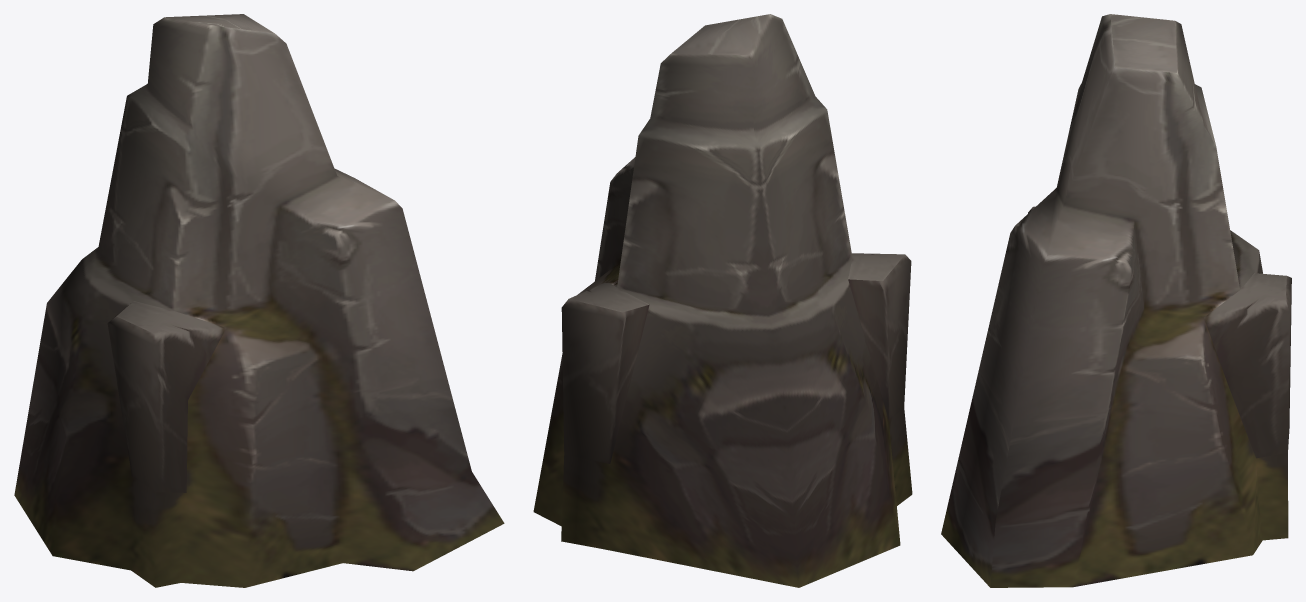
The picture shows the model from 3 angles, left to right: view 1: azimuth 30°, elevation 25°; view 2: azimuth 150°, elevation 25°; view 3: azimuth 270°, elevation 25°; orthographic projection. The views are drawn at different scales.
Visible parts, largest first — view 1: MB0002_28_02_01; view 2: MB0002_28_02_01; view 3: MB0002_28_02_01.
Part boxes in pixels (bbox=[...]): MB0002_28_02_01: bbox=[14, 14, 504, 587]; MB0002_28_02_01: bbox=[533, 14, 912, 587]; MB0002_28_02_01: bbox=[941, 14, 1291, 587].
Bounding box in the file's own units: 3.04 × 3.92 × 2.65.
